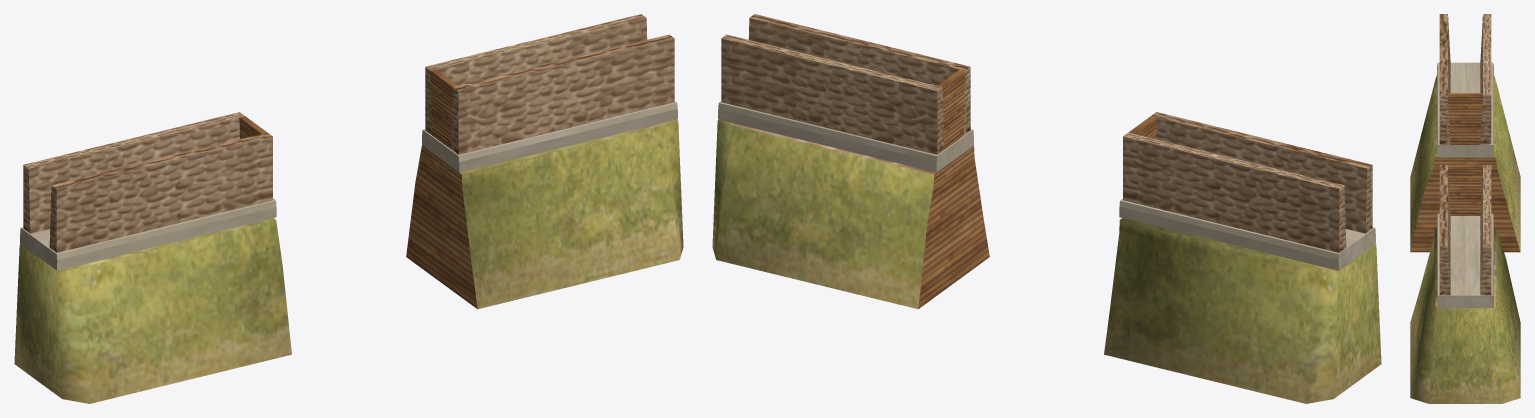
Rendered from maya_wall_gate.dae.
The picture shows the model from 3 angles, left to right: view 1: azimuth 30°, elevation 25°; view 2: azimuth 150°, elevation 25°; view 3: azimuth 270°, elevation 25°; orthographic projection. The views are drawn at different scales.
Parts seen in each view (by area): view 1: gate; view 2: gate; view 3: gate.
Boxes of the visible parts, bbox=[...] form: gate: bbox=[14, 14, 683, 403]; gate: bbox=[712, 14, 1381, 403]; gate: bbox=[1410, 14, 1520, 403].
Bounding box in the file's own units: 33.68 × 6.71 × 10.58.
